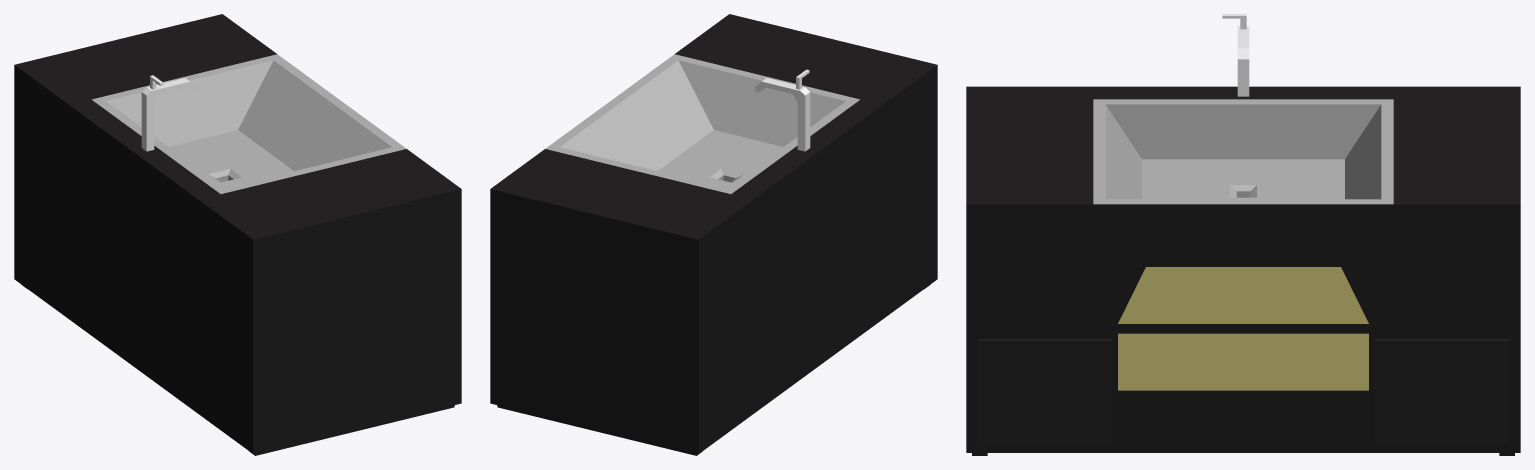
Rendered from sink.fbx.
The picture shows the model from 3 angles, left to right: view 1: azimuth 30°, elevation 25°; view 2: azimuth 150°, elevation 25°; view 3: azimuth 270°, elevation 25°; orthographic projection. The views are drawn at different scales.
Visible parts, largest first — view 1: Object002; view 2: Object002; view 3: Object002, Object006, Object004.
Boxes of the visible parts, <box> form: Object002: <box>14,14,461,455</box>; Object002: <box>490,14,937,455</box>; Object002: <box>966,14,1520,455</box>; Object006: <box>978,339,1111,444</box>; Object004: <box>1375,339,1508,444</box>.
Bounding box in the file's own units: 121 × 158 × 236.
Materials: 1 (1 with a texture image).
